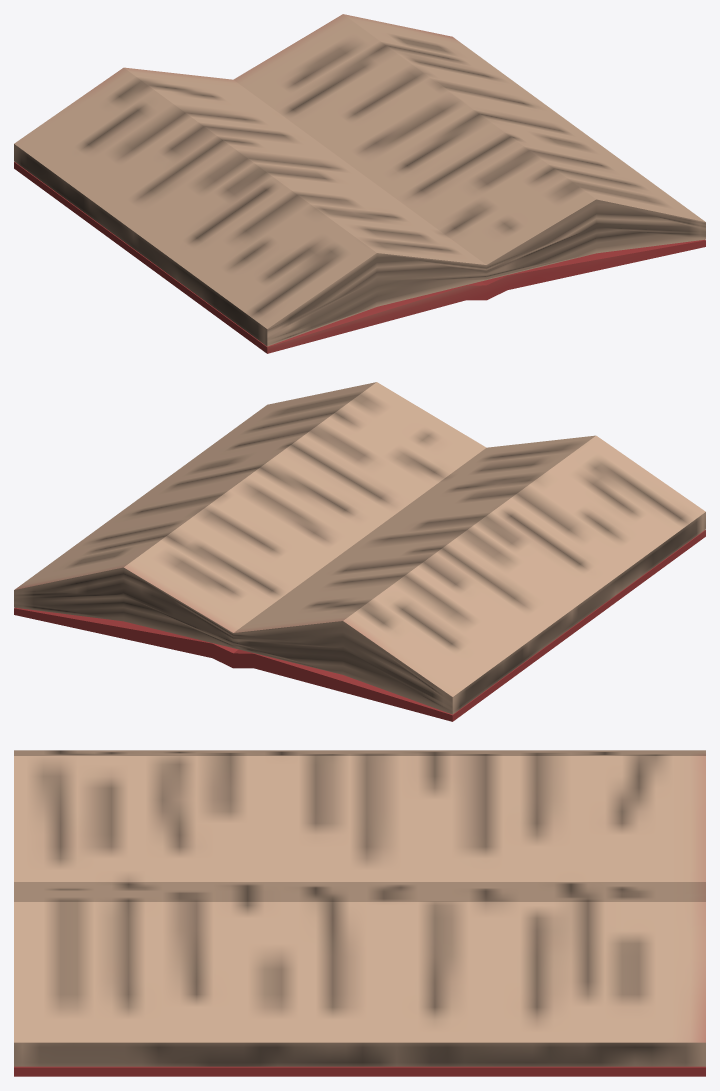
Rendered from openBook1.fbx.
The picture shows the model from 3 angles, top to bottom: view 1: azimuth 30°, elevation 25°; view 2: azimuth 150°, elevation 25°; view 3: azimuth 270°, elevation 25°; orthographic projection. The views are drawn at different scales.
Visible parts, largest first — view 1: Cube, Cube.001; view 2: Cube, Cube.001; view 3: Cube, Cube.001.
Boxes of the visible parts, box(x1,y1,x2,y2) form: Cube: box(14, 14, 705, 346); Cube.001: box(14, 162, 705, 353); Cube: box(14, 382, 705, 714); Cube.001: box(14, 530, 705, 721); Cube: box(14, 750, 705, 1066); Cube.001: box(14, 1066, 705, 1076).
Bounding box in the file's own units: 40 × 6.47 × 40.
